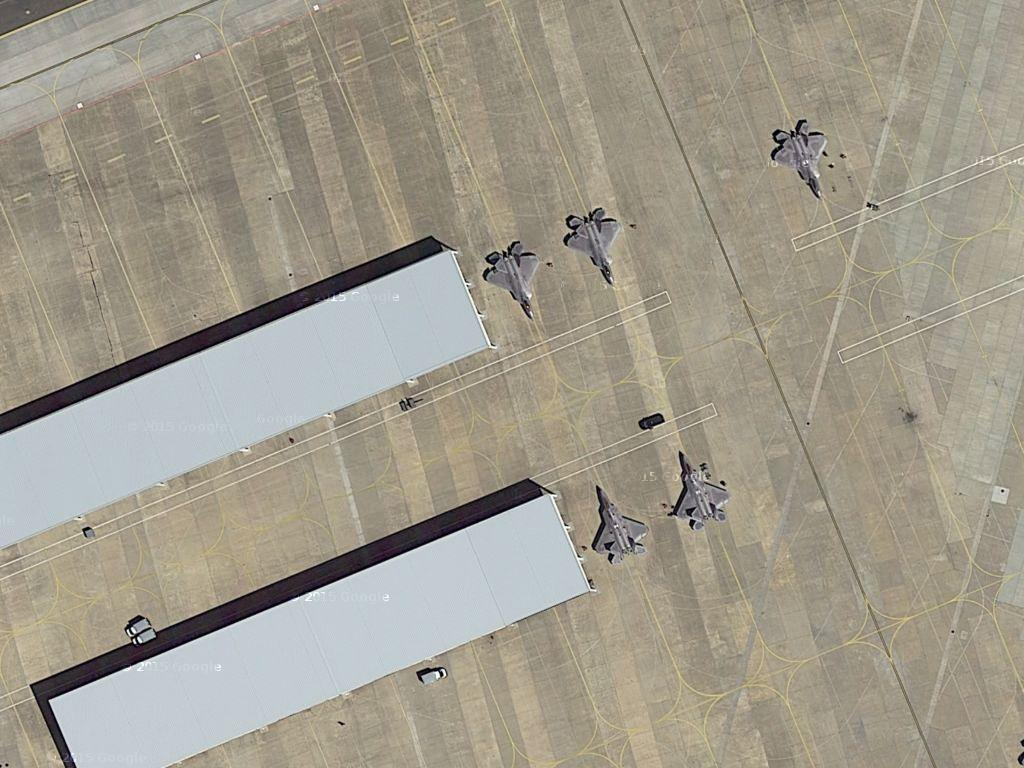F-22: (479, 238, 549, 323), (767, 116, 835, 200), (559, 205, 626, 290), (586, 481, 652, 567), (667, 453, 734, 532)
